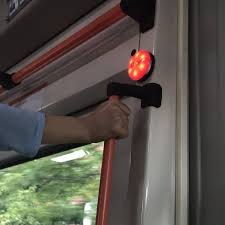bell: (123, 48, 157, 84)
